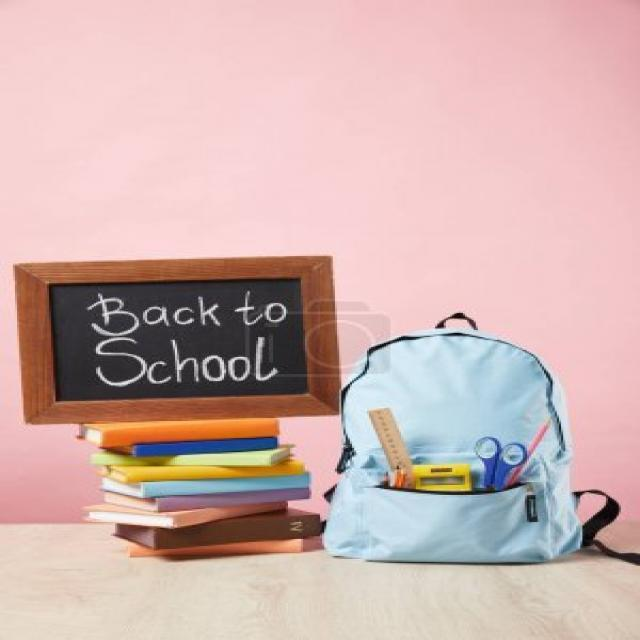scissors: (470, 433, 530, 551)
